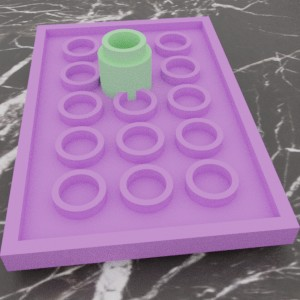lego: (0, 16, 299, 271), (97, 29, 151, 110)
